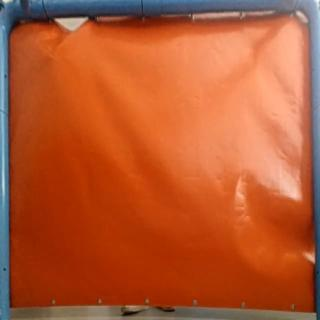Hit-hRxx: (44, 49, 63, 63)
